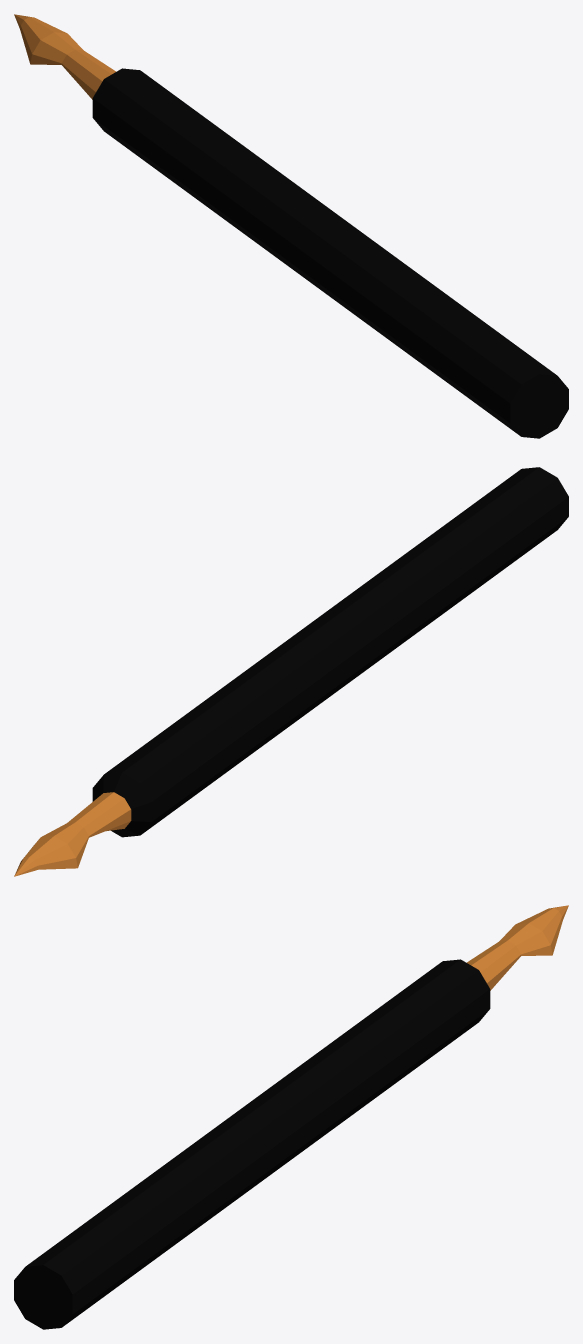
The model's file is penink01.gltf.
3 renders of one model, top to bottom at view 1: azimuth 30°, elevation 25°; view 2: azimuth 150°, elevation 25°; view 3: azimuth 330°, elevation 25°, orthographic.
Parts seen in each view (by area): view 1: Cylinder.001; view 2: Cylinder.001; view 3: Cylinder.001.
Part boxes in pixels (x1=…): Cylinder.001: x1=14, y1=14, x2=568, y2=438; Cylinder.001: x1=14, y1=467, x2=568, y2=876; Cylinder.001: x1=14, y1=905, x2=568, y2=1329.
Size of the model in its own units: 0.00797 by 0.00838 by 0.1234.
1 material, 1 textured.
